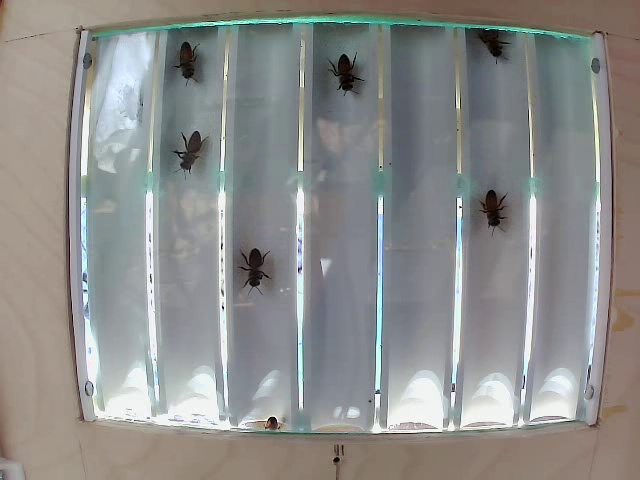bee: (229, 237, 275, 303), (174, 124, 211, 179), (321, 56, 363, 99), (477, 22, 507, 77), (173, 40, 207, 85), (470, 185, 509, 224)
